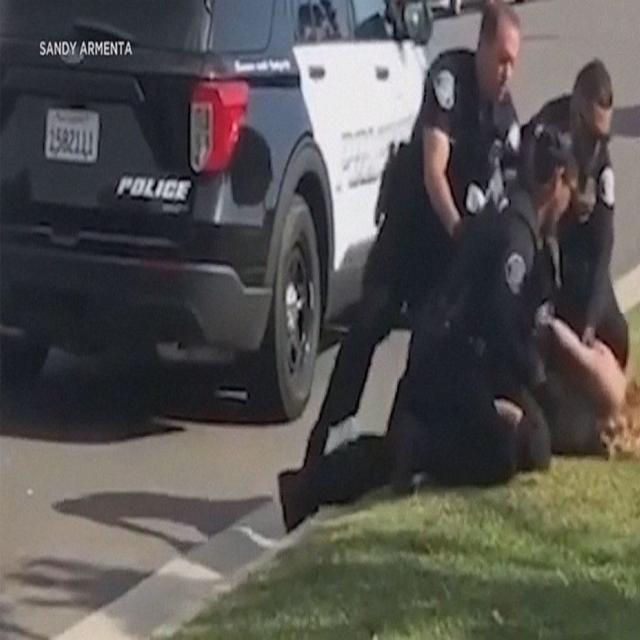police: (298, 2, 528, 453), (370, 134, 572, 483), (519, 53, 629, 356)
